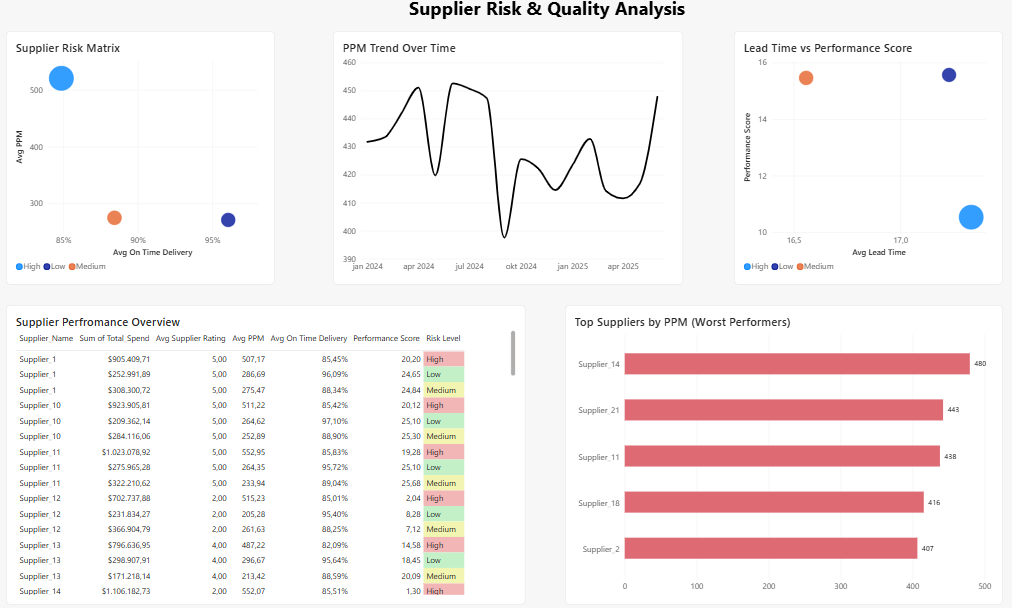

Layout of this report page (visuals, bound fields, positions):
{"tool":"powerbi","page":{"name":"2. Supplier Risk & Quality Analysis","canvas":[1920,1080],"ordinal":1},"visuals":[{"type":"textbox","box":[10.5,0,1909.5,62.9],"z":0},{"type":"barChart","title":"Top Suppliers by PPM (Worst Performers)","fields":{"Category":["Dim_Supplier.Supplier_Name"],"Y":["Fact_ProcurementPerfromance.Avg PPM"]},"box":[996.7,540,763.3,521.7],"z":1000},{"type":"lineChart","title":"PPM Trend Over Time","fields":{"Y":["Fact_ProcurementPerfromance.Avg PPM"],"Category":["Dim_Date.Date.Variation.Date Hierarchy.Year","Dim_Date.Date.Variation.Date Hierarchy.Quarter","Dim_Date.Date.Variation.Date Hierarchy.Month","Dim_Date.Date.Variation.Date Hierarchy.Day"]},"box":[591.7,63.3,610,441.7],"z":2000},{"type":"tableEx","title":"Supplier Perfromance Overview","fields":{"Values":["Dim_Supplier.Supplier_Name","Sum(Fact_ProcurementPerfromance.Total_Spend)","Dim_Supplier.Avg Supplier Rating","Fact_ProcurementPerfromance.Avg PPM","Fact_ProcurementPerfromance.Avg On Time Delivery","Fact_ProcurementPerfromance.Performance Score","Fact_ProcurementPerfromance.Risk Level"]},"box":[23.3,540,905,521.7],"z":3000},{"type":"scatterChart","title":"Supplier Risk Matrix","fields":{"X":["Fact_ProcurementPerfromance.Avg On Time Delivery"],"Y":["Fact_ProcurementPerfromance.Avg PPM"],"Size":["Fact_ProcurementPerfromance.Total Spend"],"Series":["Fact_ProcurementPerfromance.Risk Level"]},"box":[23.3,63.3,468.3,441.7],"z":4000},{"type":"scatterChart","title":"Lead Time vs Performance Score","fields":{"Size":["Fact_ProcurementPerfromance.Total Spend"],"X":["Fact_ProcurementPerfromance.Avg Lead Time"],"Y":["Fact_ProcurementPerfromance.Performance Score"],"Series":["Fact_ProcurementPerfromance.Risk Level"]},"box":[1291.7,63.3,468.3,441.7],"z":5000}]}

Visuals, with their boxes on the page's 1920x1080 design canvas (x1, y1, x2, y2). These are canvas units, not pixel positions in the 1012x608 screenshot, which may show the page scaled, cropped or inside an application window:
textbox: 10 0 1920 63
"Top Suppliers by PPM (Worst Performers)" barChart: 997 540 1760 1062
"PPM Trend Over Time" lineChart: 592 63 1202 505
"Supplier Perfromance Overview" tableEx: 23 540 928 1062
"Supplier Risk Matrix" scatterChart: 23 63 492 505
"Lead Time vs Performance Score" scatterChart: 1292 63 1760 505
